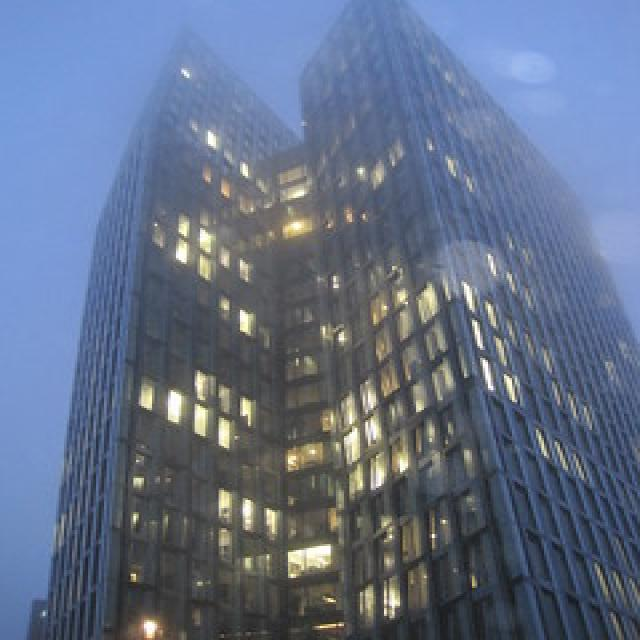building: (37, 2, 640, 640)
